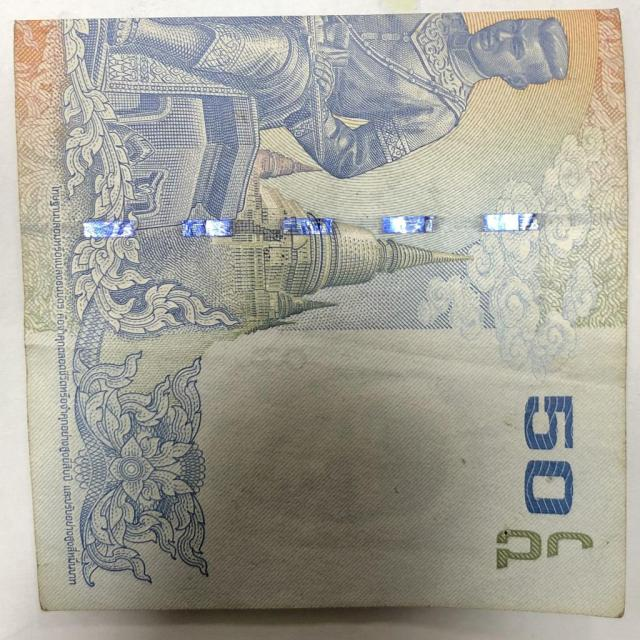THAI50: (12, 9, 629, 620)
